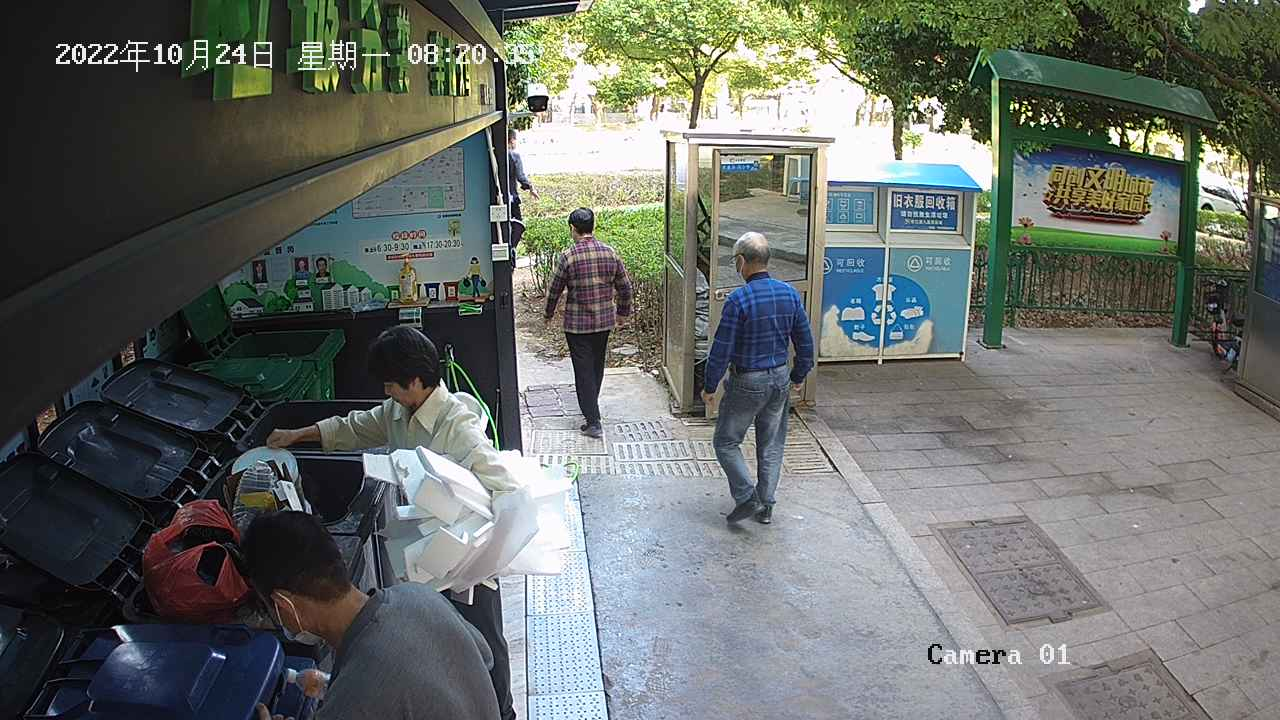paomozhipin: (358, 441, 582, 599)
person: (230, 312, 544, 720), (697, 228, 819, 529), (539, 202, 639, 438)
